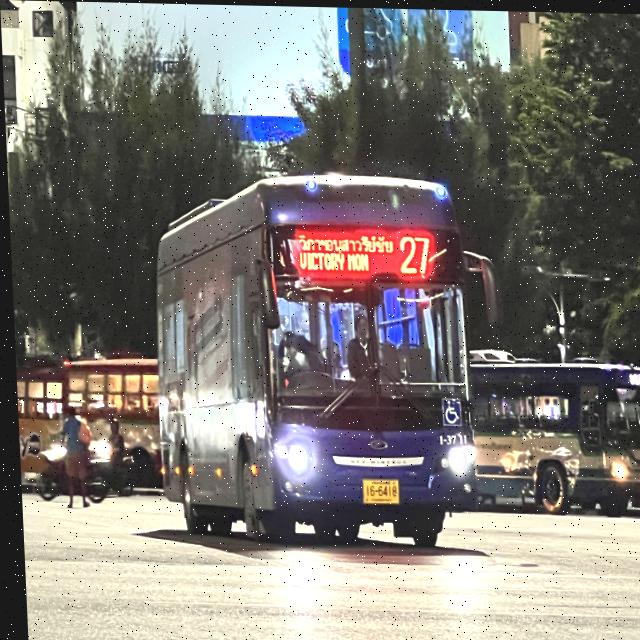BMTA-bus: (465, 350, 640, 515), (13, 353, 158, 495)
Bus-Line-Number: (395, 227, 431, 277)
Destination-Sign-Normal: (292, 228, 394, 274)
TSB-Bus: (143, 169, 476, 548)
